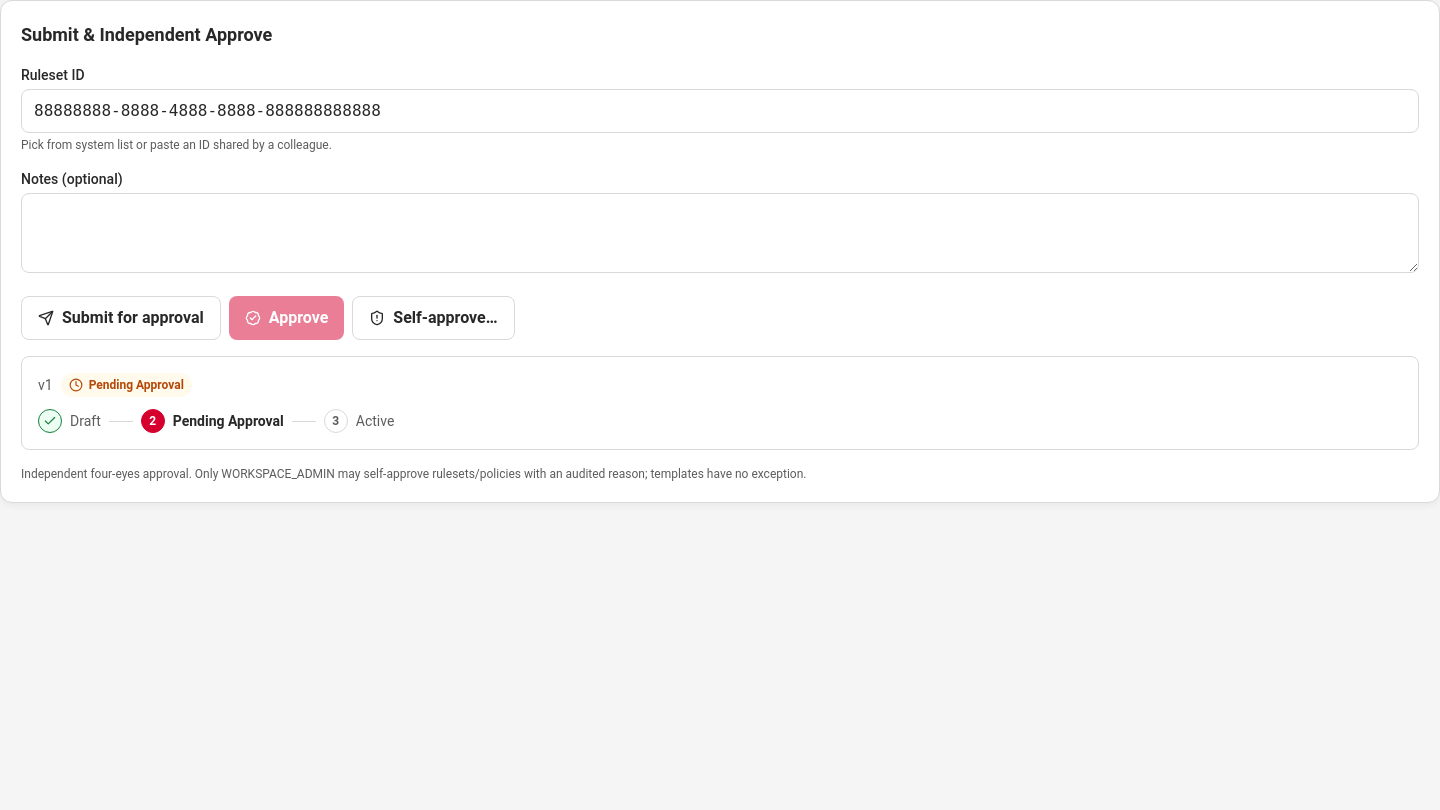
does not apply a delayed approval response to a newly selected revision
Click the button "Self-approve…" at (433, 318), box [352, 296, 514, 340]
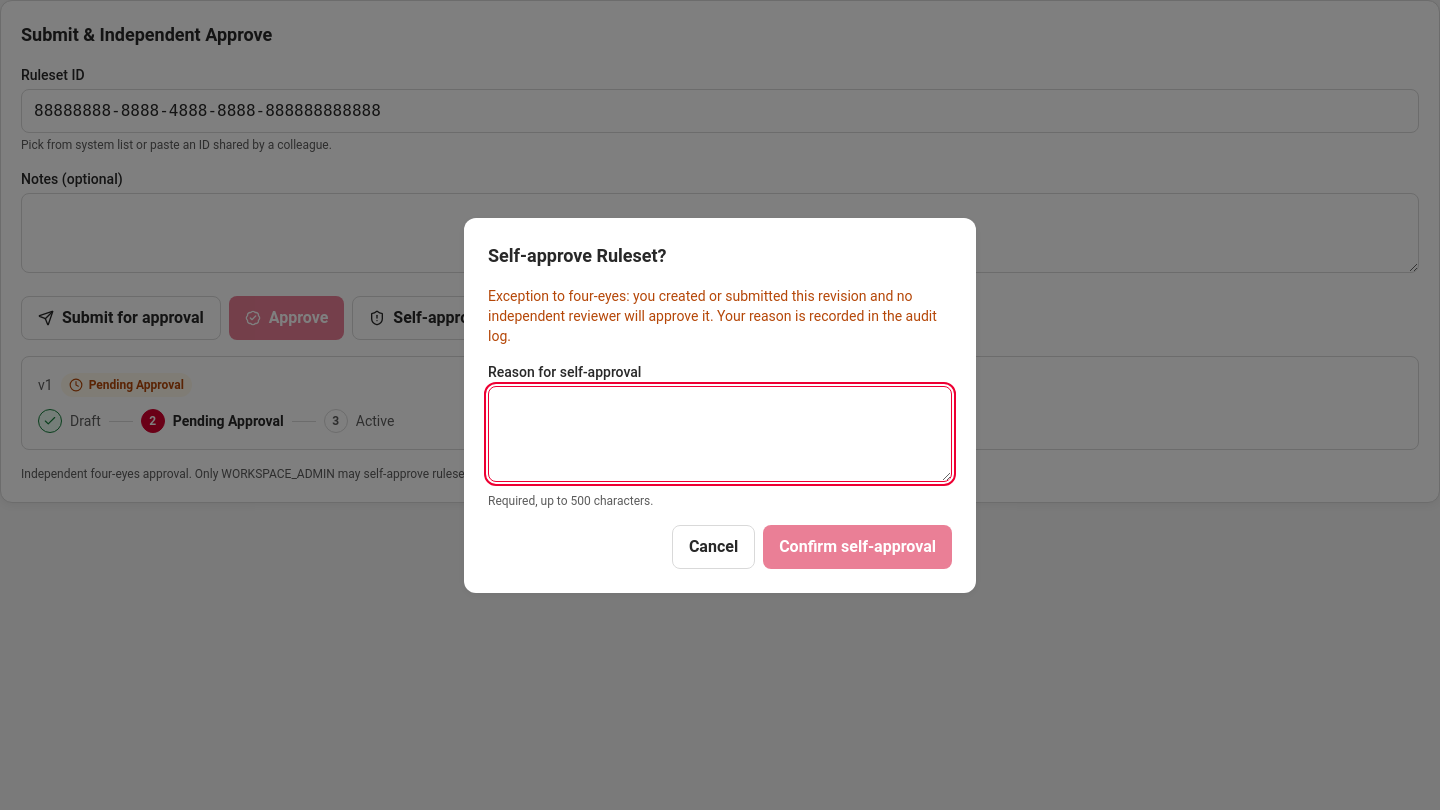
Type "Reviewed A" into the text box labelled "Reason for self-approval" at (720, 434), box [488, 386, 952, 482]
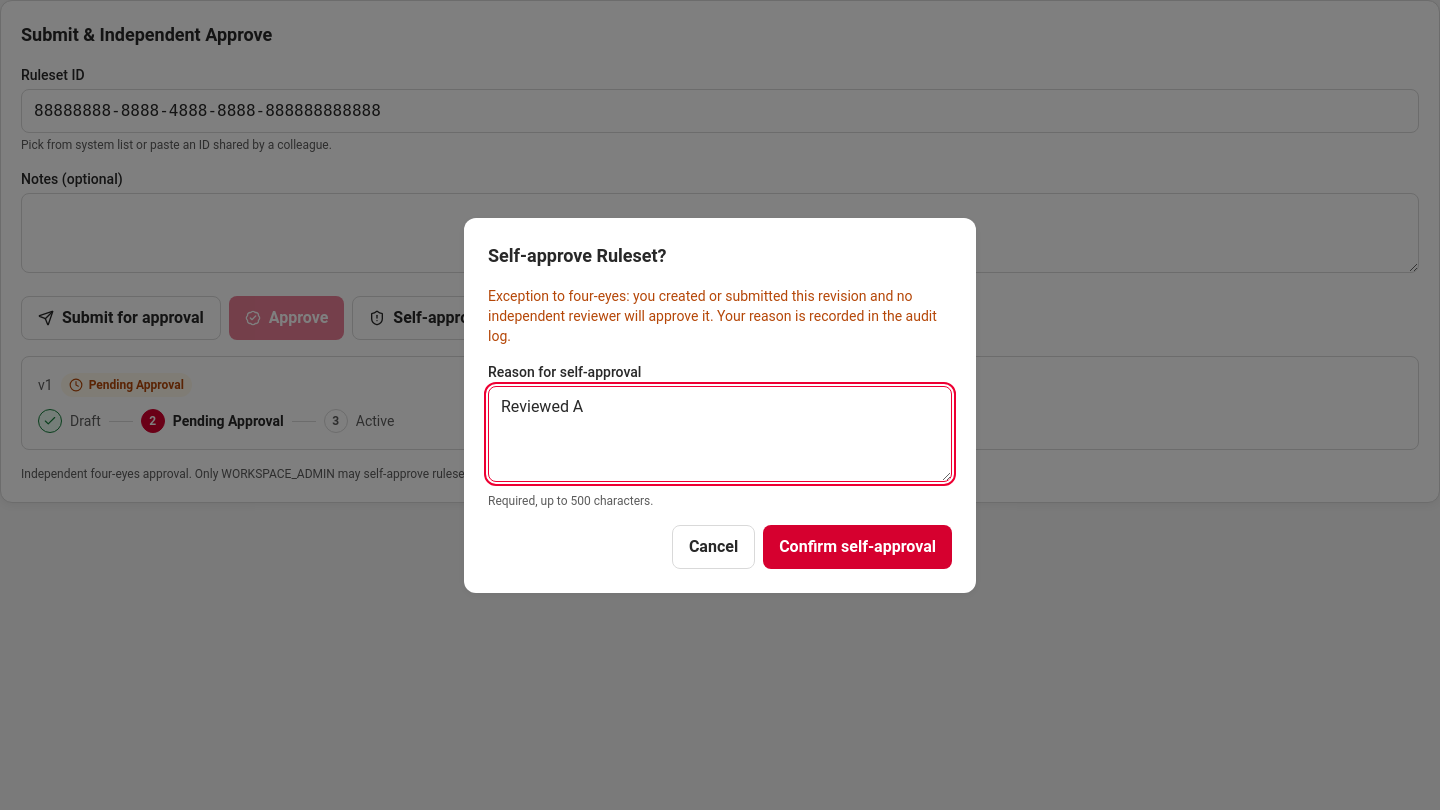
Click the button "Confirm self-approval" at (858, 546), box [763, 524, 952, 568]
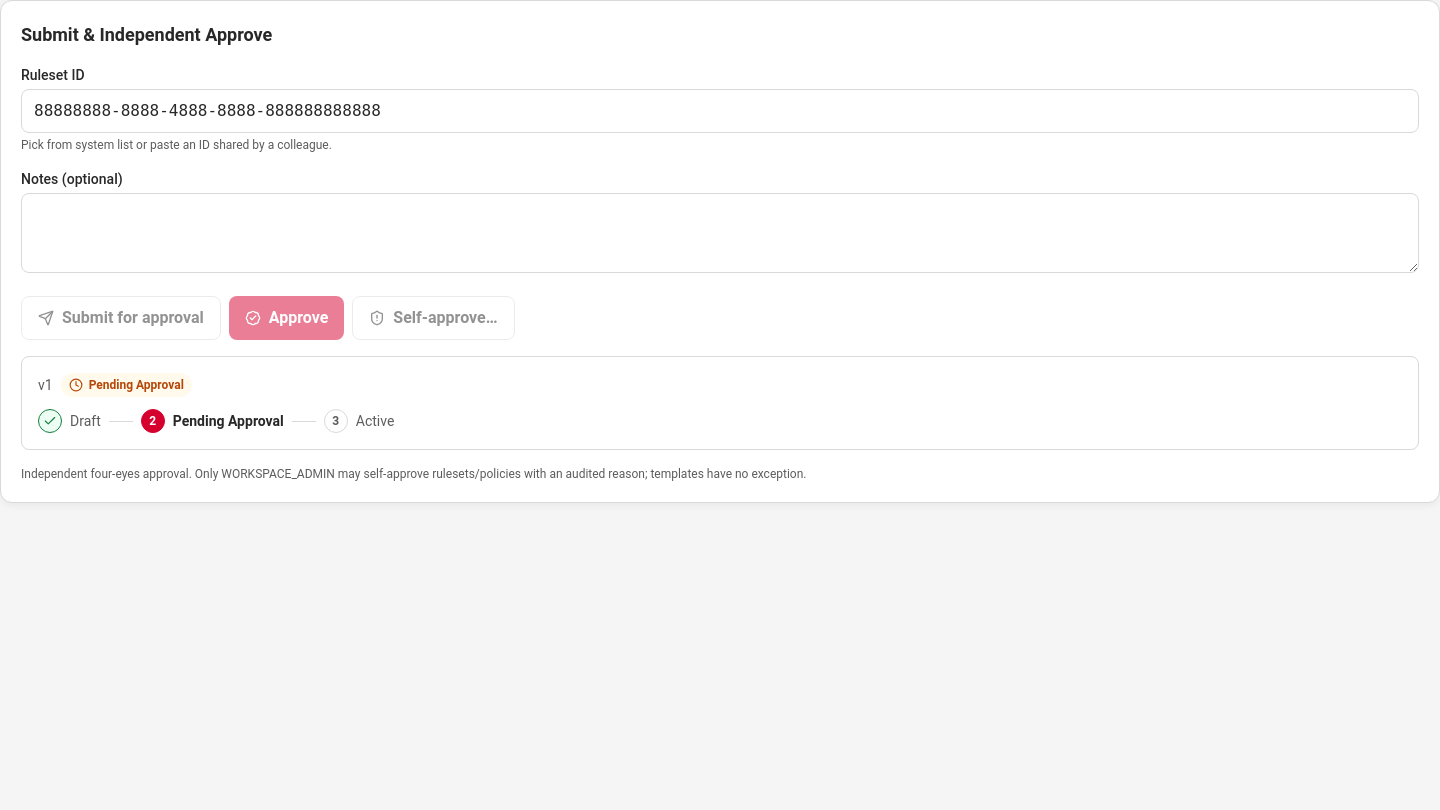
Replace the text in the field labelled "Ruleset ID" with "99999999-9999-4999-8999-999999999999" at (720, 111), box [21, 89, 1419, 133]
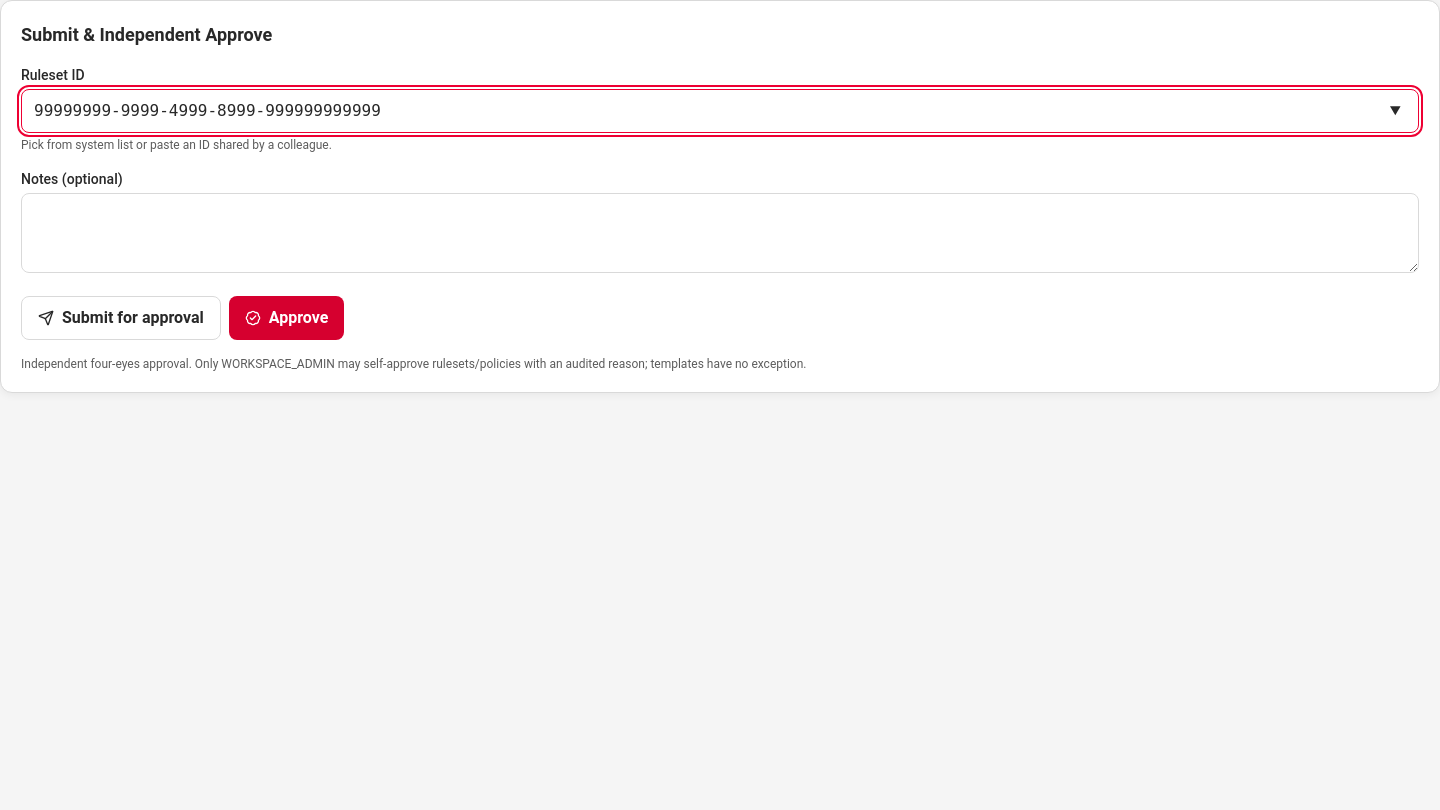
Check: the button "Approve" is enabled, box [229, 296, 344, 340]
